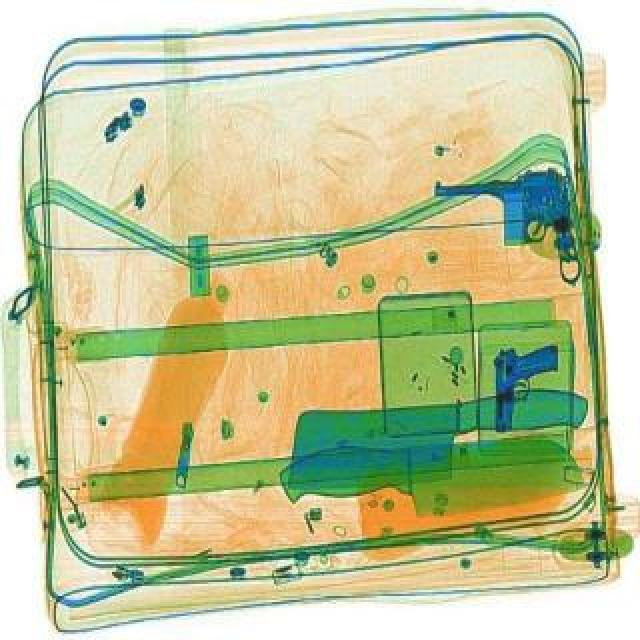gun: (426, 160, 582, 292), (488, 344, 564, 430)
knife: (292, 384, 588, 492), (272, 434, 582, 520)
